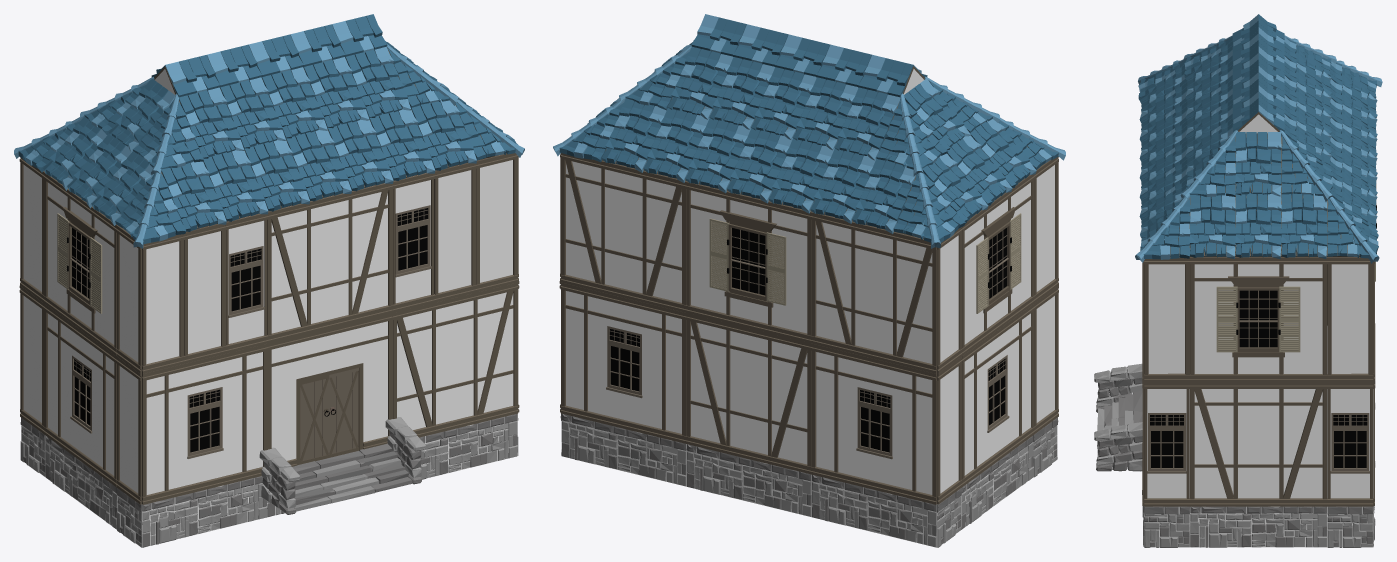
The model's file is House_13_full.glb.
The picture shows the model from 3 angles, left to right: view 1: azimuth 30°, elevation 25°; view 2: azimuth 150°, elevation 25°; view 3: azimuth 270°, elevation 25°; orthographic projection. The views are drawn at different scales.
Visible parts, largest first — view 1: WALL_02_7, WINDOW_03_2, WALL_02_2, DOOR_03_2, WINDOW_07_5, WINDOW_03_3, STAIRS_02_2, WALL_03_10, WALL_03_9, WALL_03_12, WALL_03_11, WINDOW_04_5 (+37 smaller); view 2: WINDOW_07_4, WALL_02_5, WINDOW_03_5, WINDOW_03_4, WALL_02_4, WALL_02_6, WINDOW_07_5, WINDOW_03_3, FOUNDATION_02_29, FOUNDATION_02_30, FOUNDATION_02_28, WALL_03_4 (+33 smaller); view 3: WINDOW_07_3, WALL_02_3, WALL_03_8, WINDOW_04_4, FOUNDATION_02_31, WINDOW_04_3, WALL_03_7, STAIRS_02_2, ROOF_base_33, ROOF_base_17, ROOF_base_34, ROOF_base_16 (+47 smaller).
Boxes of the visible parts, x1,y1,x2,y2 form: WALL_02_7: (267,183,393,343); WINDOW_03_2: (142,343,267,504); WALL_02_2: (392,282,518,437); DOOR_03_2: (267,313,393,466); WINDOW_07_5: (43,172,117,355); WINDOW_03_3: (43,303,117,486); STAIRS_02_2: (259,417,425,514); WALL_03_10: (434,163,476,302); WALL_03_9: (476,153,518,292); WALL_03_12: (142,234,184,373); WALL_03_11: (184,224,226,363); WINDOW_04_5: (225,213,267,353); WINDOW_07_4: (685,181,811,343); WALL_02_5: (811,212,936,373); WINDOW_03_5: (560,282,686,443); WINDOW_03_4: (811,343,936,504); WALL_02_4: (685,313,811,474); WALL_02_6: (560,153,686,312); WINDOW_07_5: (961,174,1034,355); WINDOW_03_3: (961,303,1034,486); FOUNDATION_02_29: (686,444,811,517); FOUNDATION_02_30: (561,413,686,486); FOUNDATION_02_28: (812,474,937,547); WALL_03_4: (937,356,962,504); WINDOW_07_3: (1190,257,1327,382); WALL_02_3: (1190,382,1327,506); WALL_03_8: (1327,257,1373,382); WINDOW_04_4: (1327,382,1373,506); FOUNDATION_02_31: (1190,506,1327,547); WINDOW_04_3: (1144,382,1189,506); WALL_03_7: (1144,257,1189,382); STAIRS_02_2: (1094,363,1142,471); ROOF_base_33: (1235,193,1281,259); ROOF_base_17: (1281,193,1327,259); ROOF_base_34: (1235,132,1281,196); ROOF_base_16: (1189,193,1235,259).
Bounding box in the file's own units: 9.41 × 9.59 × 6.29.
Materials: 1 (1 with a texture image).
